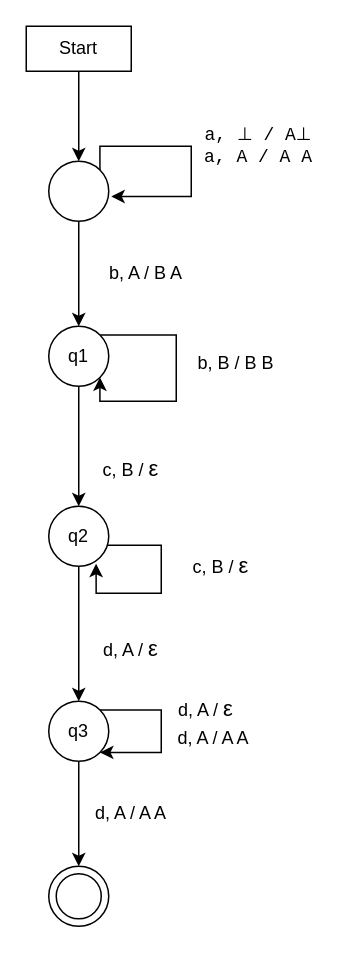
This 353x953 diagram has some shape labels left out. Each missing label, with the box of its shape:
q0: (47, 160, 109, 221)
q4: (47, 865, 109, 926)
